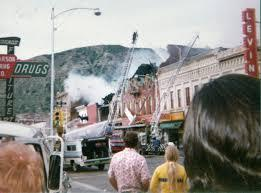smoke: (62, 67, 117, 108)
